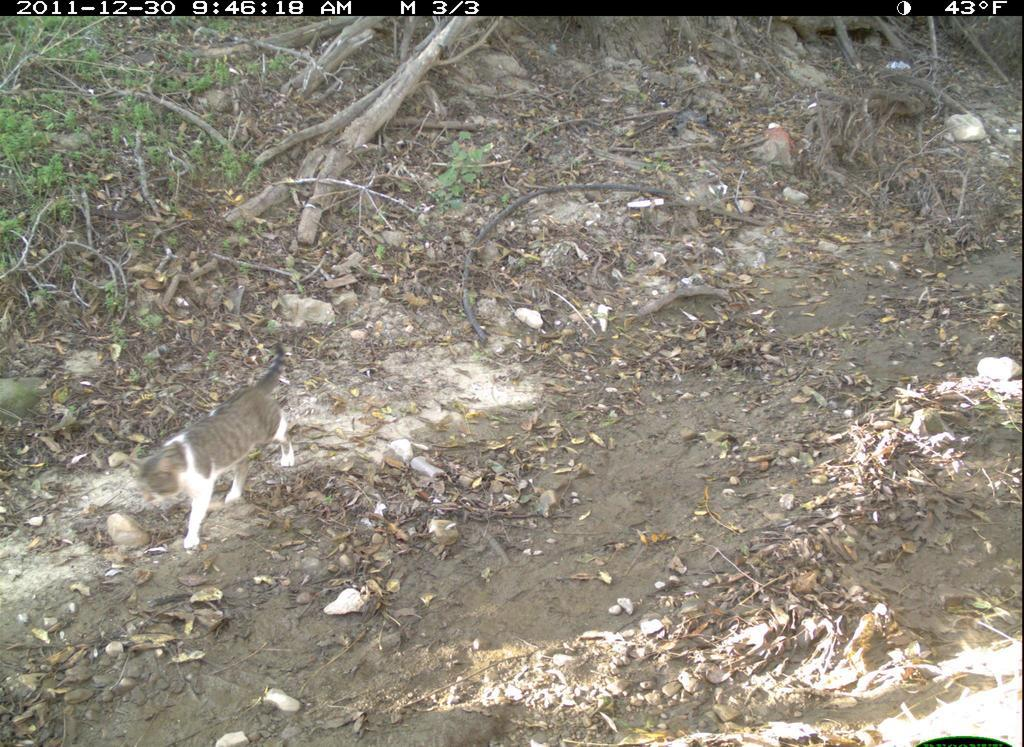cat: (118, 338, 306, 559)
